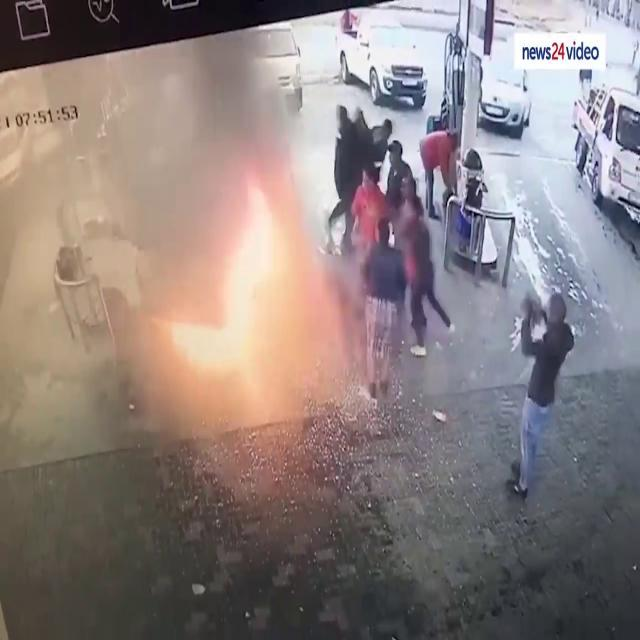Fire: (164, 174, 300, 386)
Smoke: (100, 32, 314, 210)
